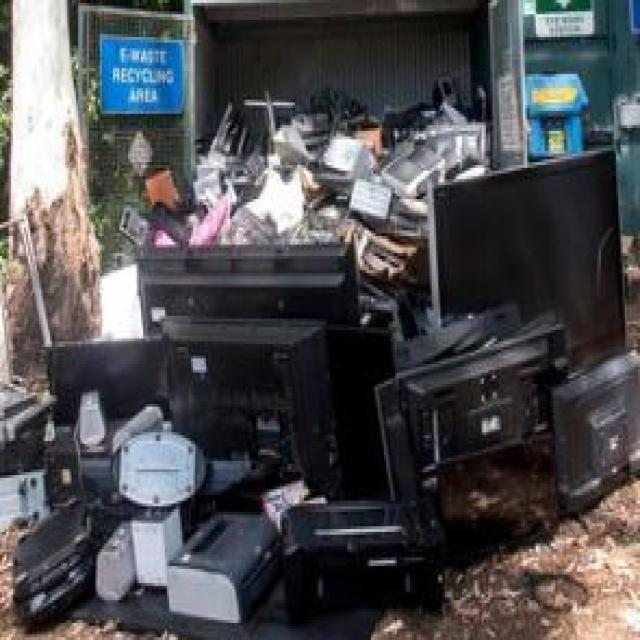electronic: (392, 140, 640, 476), (101, 196, 366, 462), (350, 321, 598, 553), (163, 305, 346, 508), (275, 481, 465, 631), (137, 503, 302, 638), (54, 320, 197, 473)
